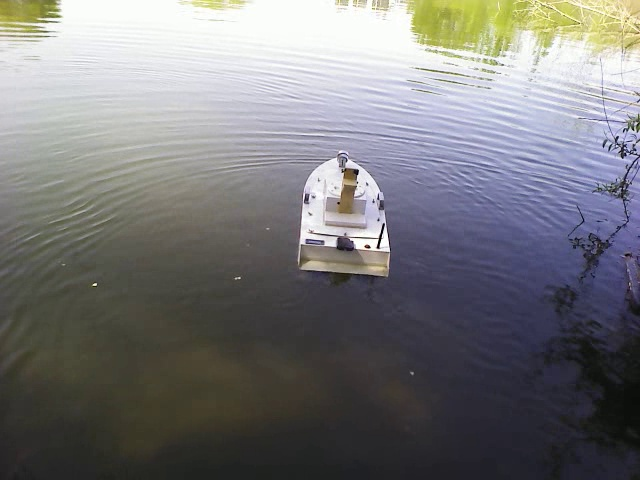boat: (293, 147, 396, 278)
